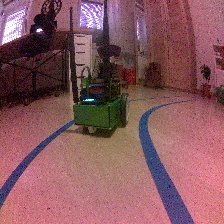rob: (71, 64, 130, 134)
